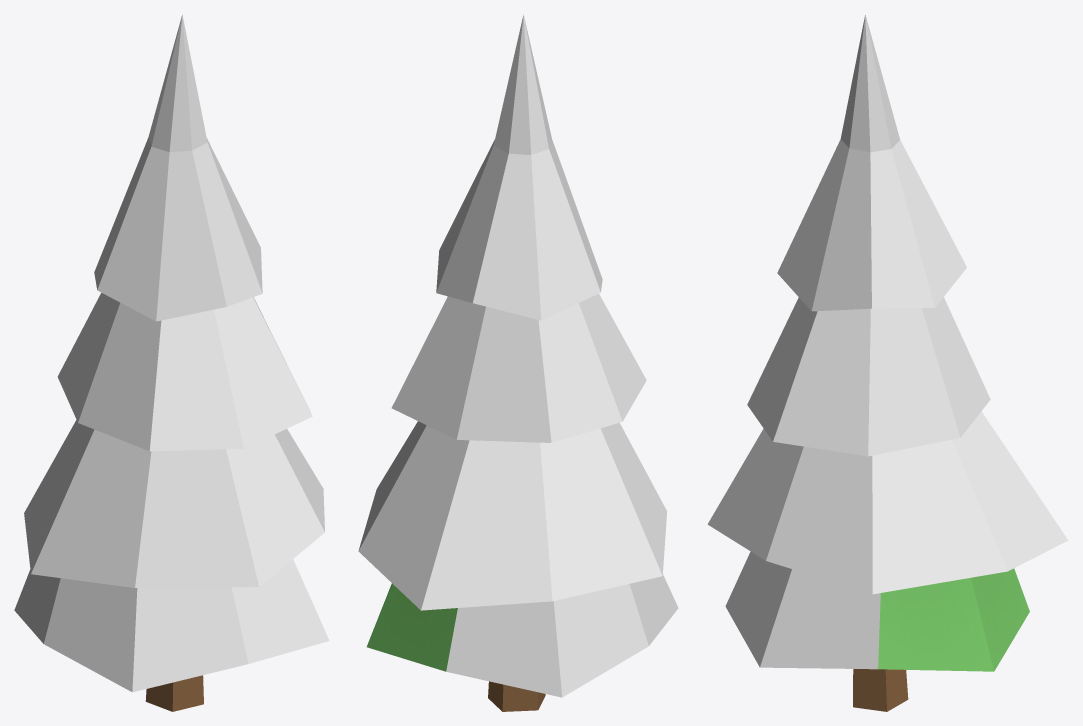
File: Fir_Tree_OneSided_m_Snow_01_LOD.fbx
3 renders of one model, left to right at view 1: azimuth 30°, elevation 25°; view 2: azimuth 150°, elevation 25°; view 3: azimuth 270°, elevation 25°, orthographic.
Visible parts, largest first — view 1: Fir_Tree_OneSided_m_Snow_01_LOD0; view 2: Fir_Tree_OneSided_m_Snow_01_LOD0; view 3: Fir_Tree_OneSided_m_Snow_01_LOD0.
Boxes of the visible parts, box(x1,y1,x2,y2) form: Fir_Tree_OneSided_m_Snow_01_LOD0: box(14, 14, 329, 711); Fir_Tree_OneSided_m_Snow_01_LOD0: box(358, 15, 678, 711); Fir_Tree_OneSided_m_Snow_01_LOD0: box(707, 15, 1068, 711).
Size of what is drawn, in the model's own units: 298 by 675 by 322.
